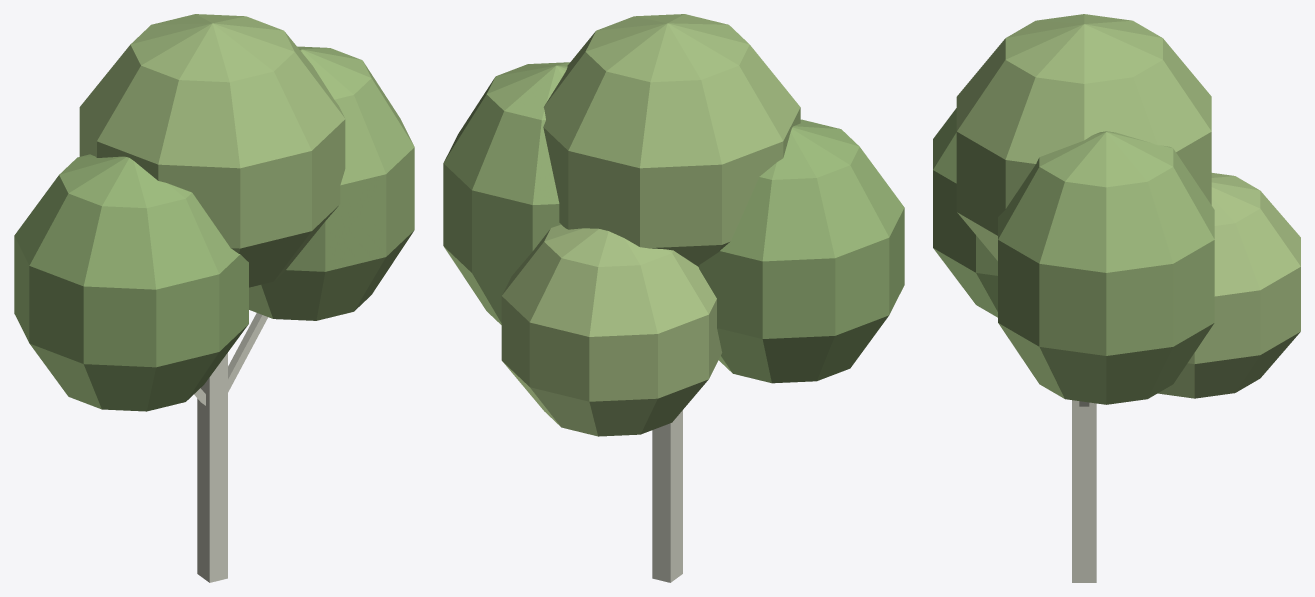
The picture shows the model from 3 angles, left to right: view 1: azimuth 30°, elevation 25°; view 2: azimuth 150°, elevation 25°; view 3: azimuth 270°, elevation 25°; orthographic projection.
Size of the model in its own units: 13.03 by 17.16 by 10.32.
